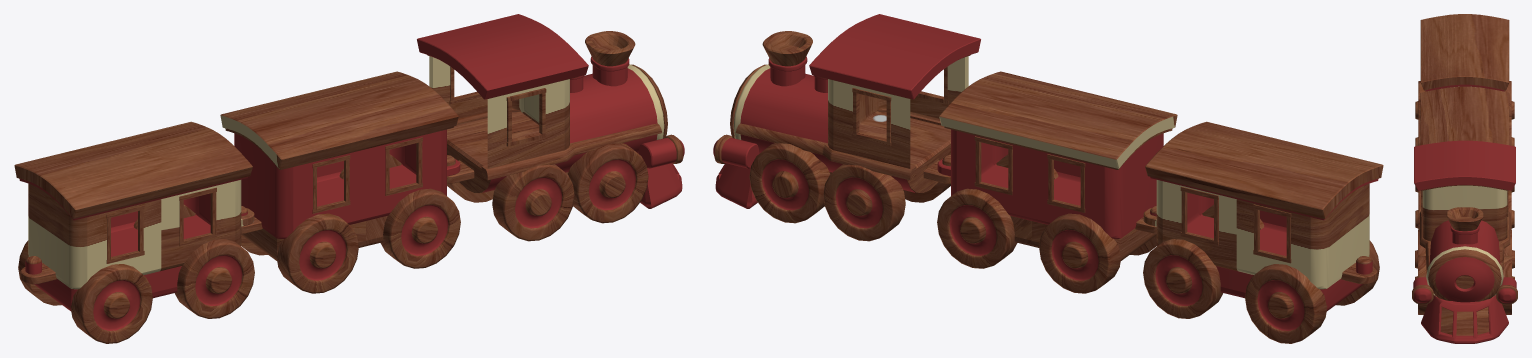
The model's file is Train.fbx.
The picture shows the model from 3 angles, left to right: view 1: azimuth 30°, elevation 25°; view 2: azimuth 150°, elevation 25°; view 3: azimuth 270°, elevation 25°; orthographic projection. The views are drawn at different scales.
Visible parts, largest first — view 1: Head, Body1, Body2; view 2: Head, Body1, Body2; view 3: Head, Body1, Body2.
Boxes of the visible parts, x1,y1,x2,y2 form: Head: (417,14,684,241); Body1: (14,121,254,343); Body2: (220,71,460,293); Head: (713,14,980,241); Body1: (1143,121,1383,343); Body2: (937,71,1177,293); Head: (1412,140,1517,343); Body1: (1415,14,1514,146); Body2: (1415,86,1514,229).
Bounding box in the file's own units: 5507 × 1410 × 1070.
